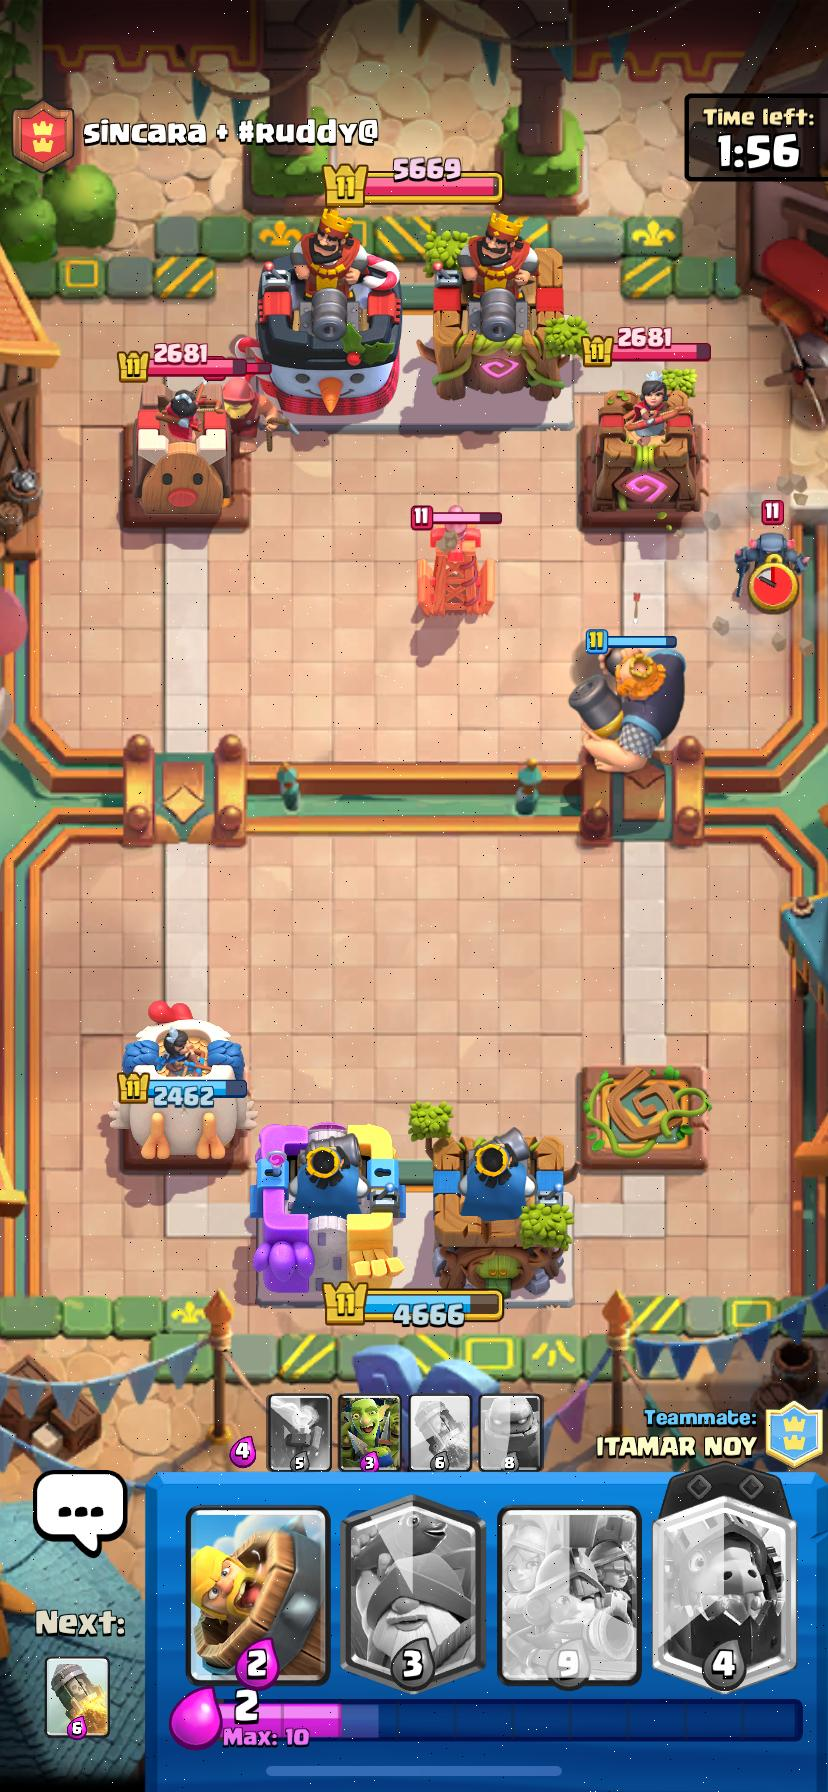EFisherman: (222, 378, 280, 451)
EKingTower: (257, 207, 401, 424), (419, 213, 566, 401)
EMiniPeka: (737, 533, 801, 574)
ETesla: (417, 514, 494, 614)
EnemyPrincessTower: (579, 381, 702, 529), (124, 392, 230, 525)
ORoyalG: (570, 638, 684, 773)
OwnKingTower: (250, 1123, 408, 1301), (433, 1128, 572, 1293)
OwnPrincessTower: (109, 1002, 255, 1160)
TowerDown: (579, 1065, 709, 1169)
